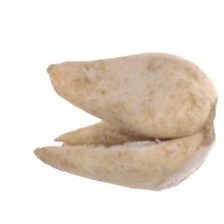L1: (32, 61, 97, 156), (202, 95, 218, 149)
L2: (32, 51, 217, 193)
